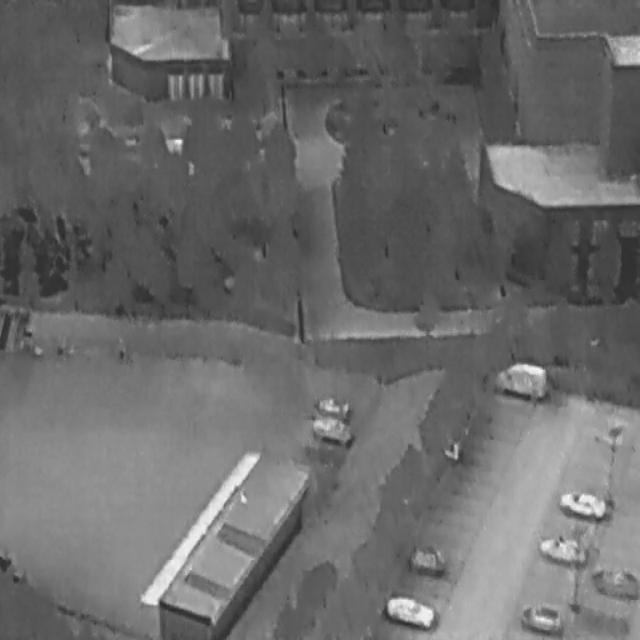Car: (492, 352, 548, 402), (536, 525, 589, 571), (382, 590, 436, 630), (558, 485, 606, 521), (519, 600, 561, 634), (308, 413, 352, 445), (311, 391, 350, 415)
